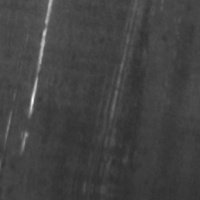scratches: (18, 0, 55, 153), (104, 28, 135, 124)
